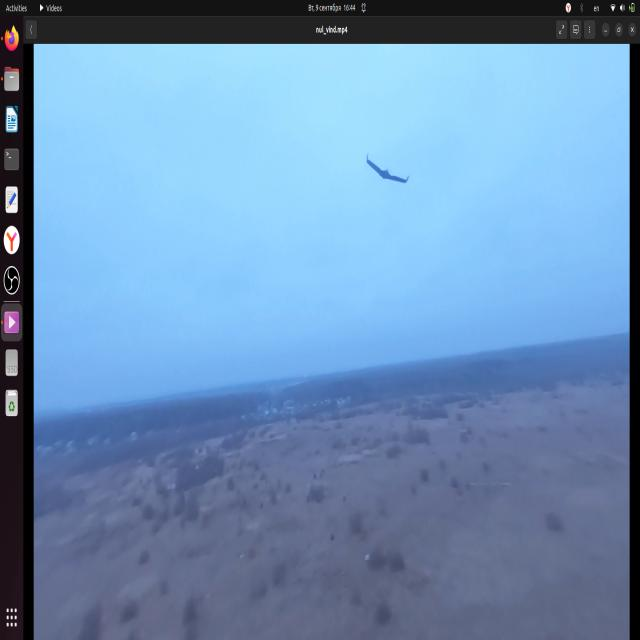planedrone: (366, 150, 412, 190)
